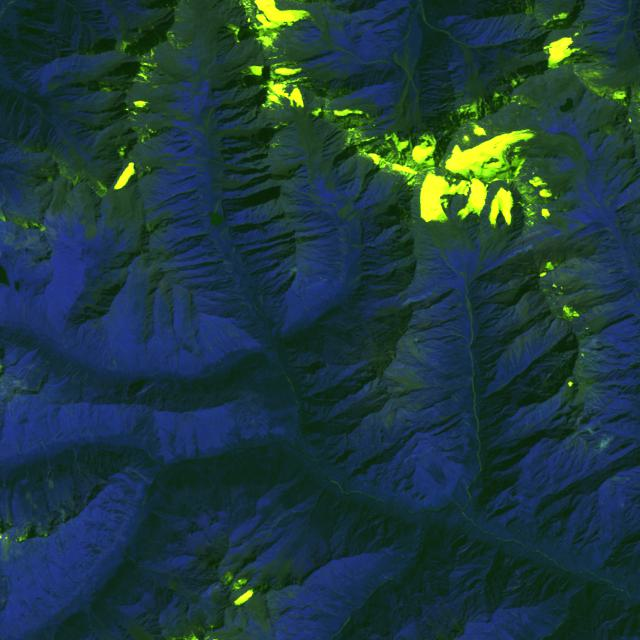landslides: (72, 447, 93, 492), (134, 376, 160, 396), (14, 289, 26, 327), (127, 468, 151, 485), (0, 179, 15, 206), (17, 363, 35, 384), (504, 579, 527, 594), (46, 454, 55, 491), (523, 329, 534, 355), (450, 330, 470, 344), (595, 0, 617, 11), (209, 347, 222, 365), (176, 162, 205, 170), (6, 491, 13, 524), (520, 334, 530, 357), (7, 401, 17, 423), (515, 336, 523, 363), (304, 629, 323, 640), (27, 491, 38, 509), (186, 125, 205, 134), (148, 453, 161, 465), (13, 366, 28, 376), (509, 344, 515, 368), (503, 347, 509, 368), (621, 278, 639, 285), (14, 370, 26, 380), (72, 367, 82, 378)
